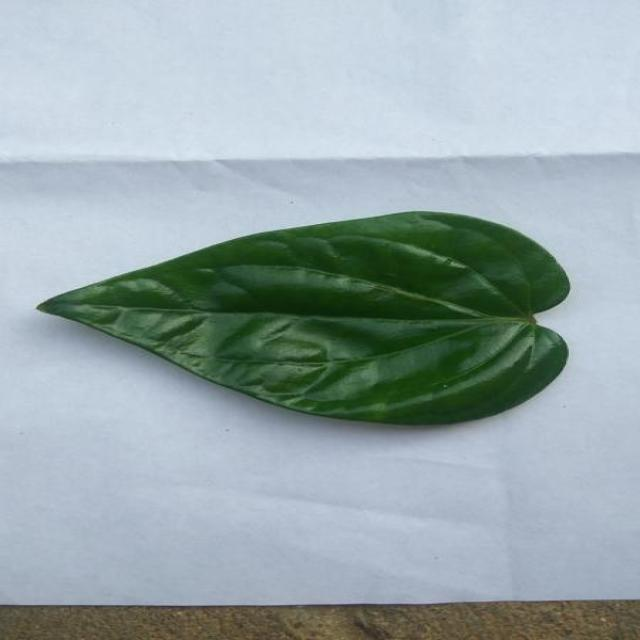betel: (38, 211, 570, 424)
defected betel: (132, 310, 465, 423)
